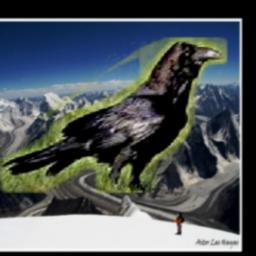Crow: (2, 37, 228, 193)
